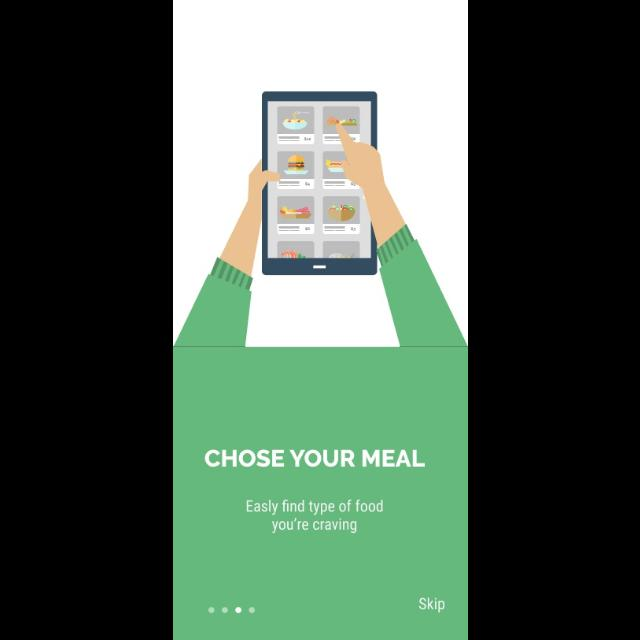image: (173, 92, 467, 348)
pageindicator: (208, 606, 256, 614)
text: (246, 499, 384, 533), (205, 449, 425, 467), (418, 597, 444, 613)
